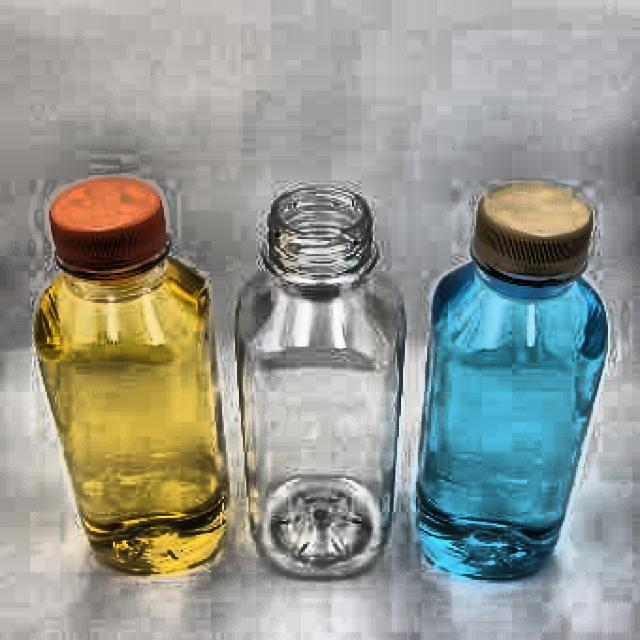Bottles: (24, 149, 231, 592), (408, 179, 614, 597), (234, 147, 410, 589)
